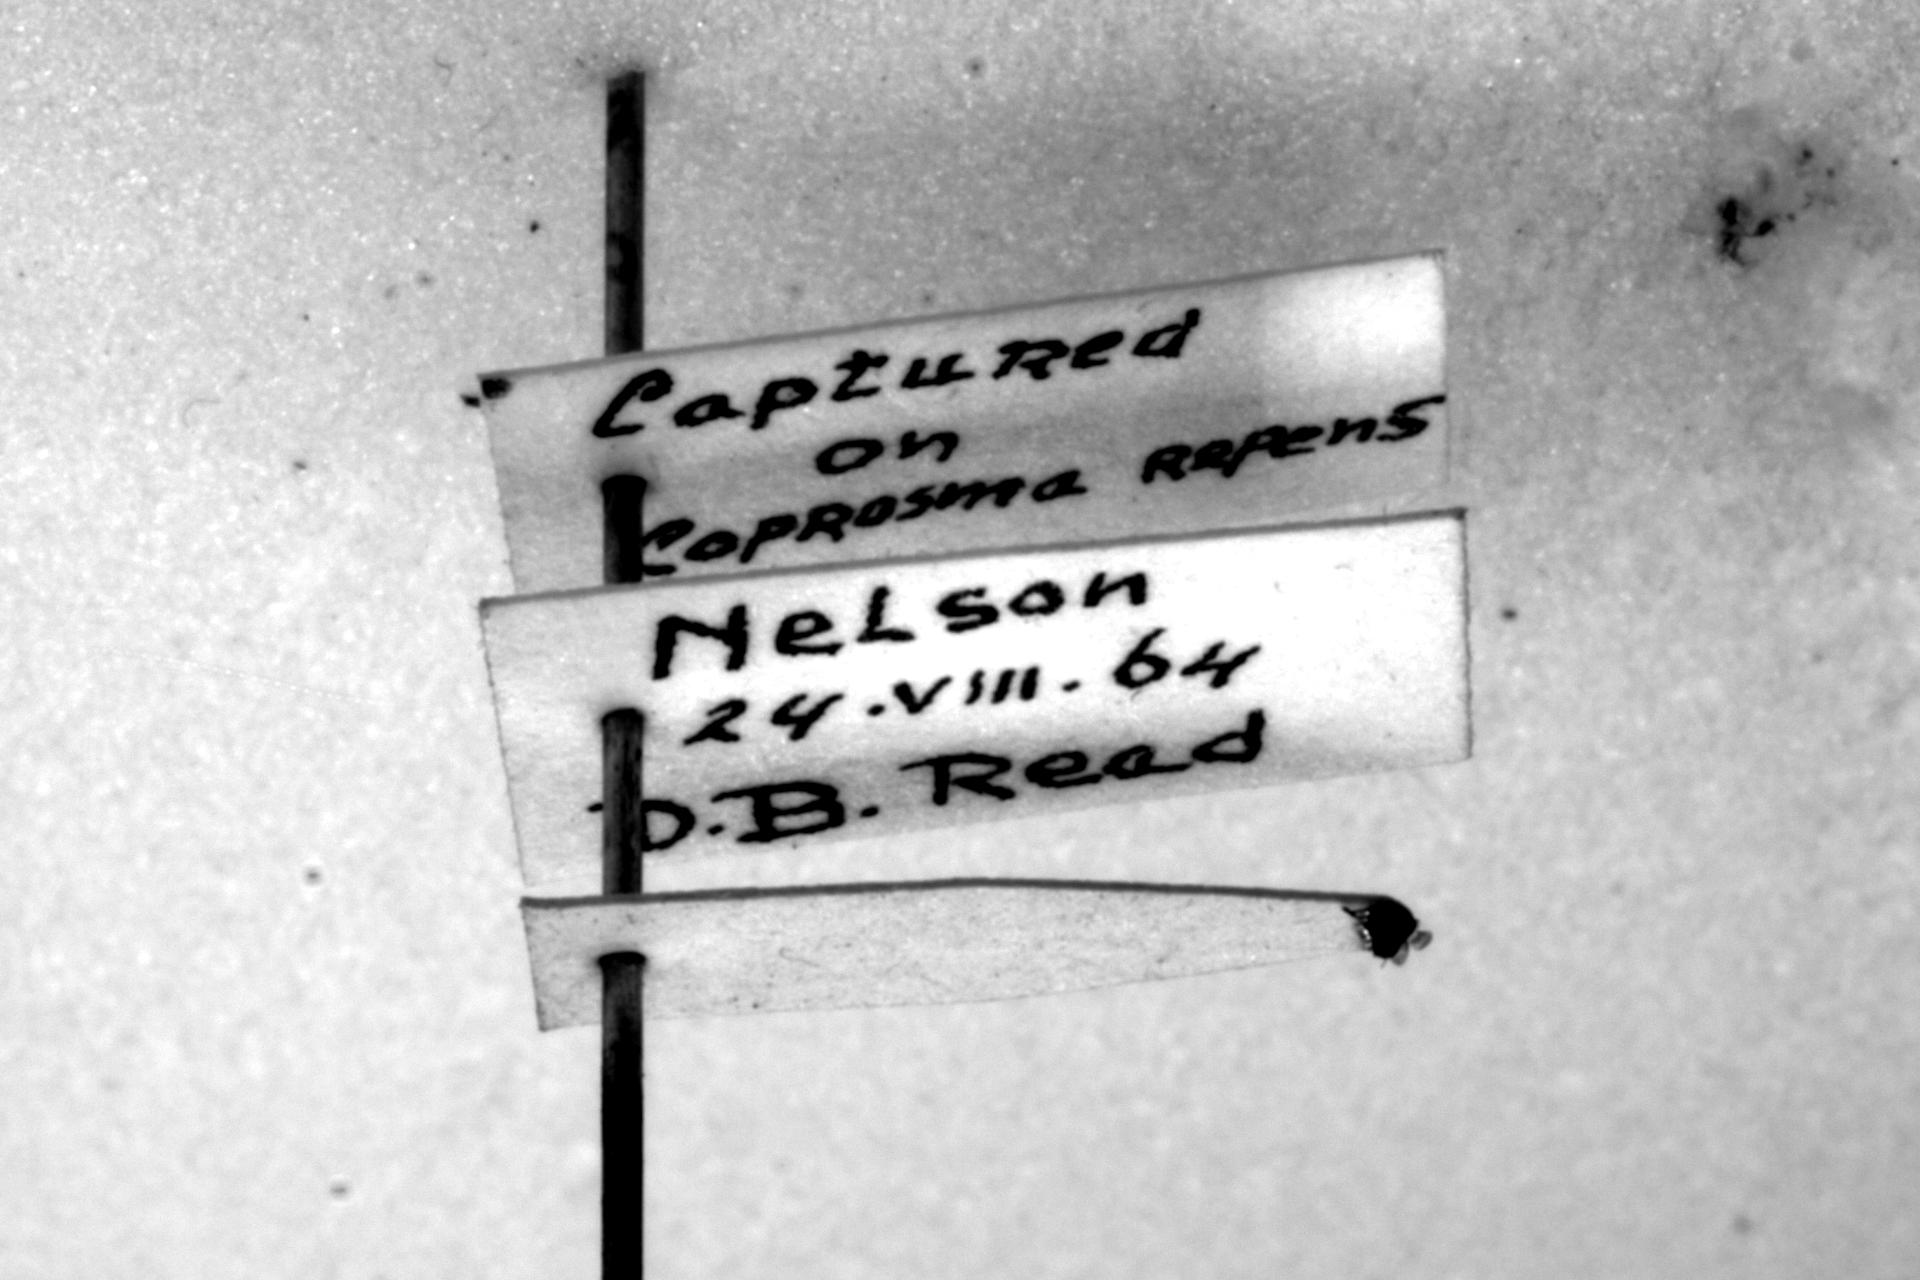hand_label: (480, 514, 1470, 886), (480, 251, 1447, 593)
